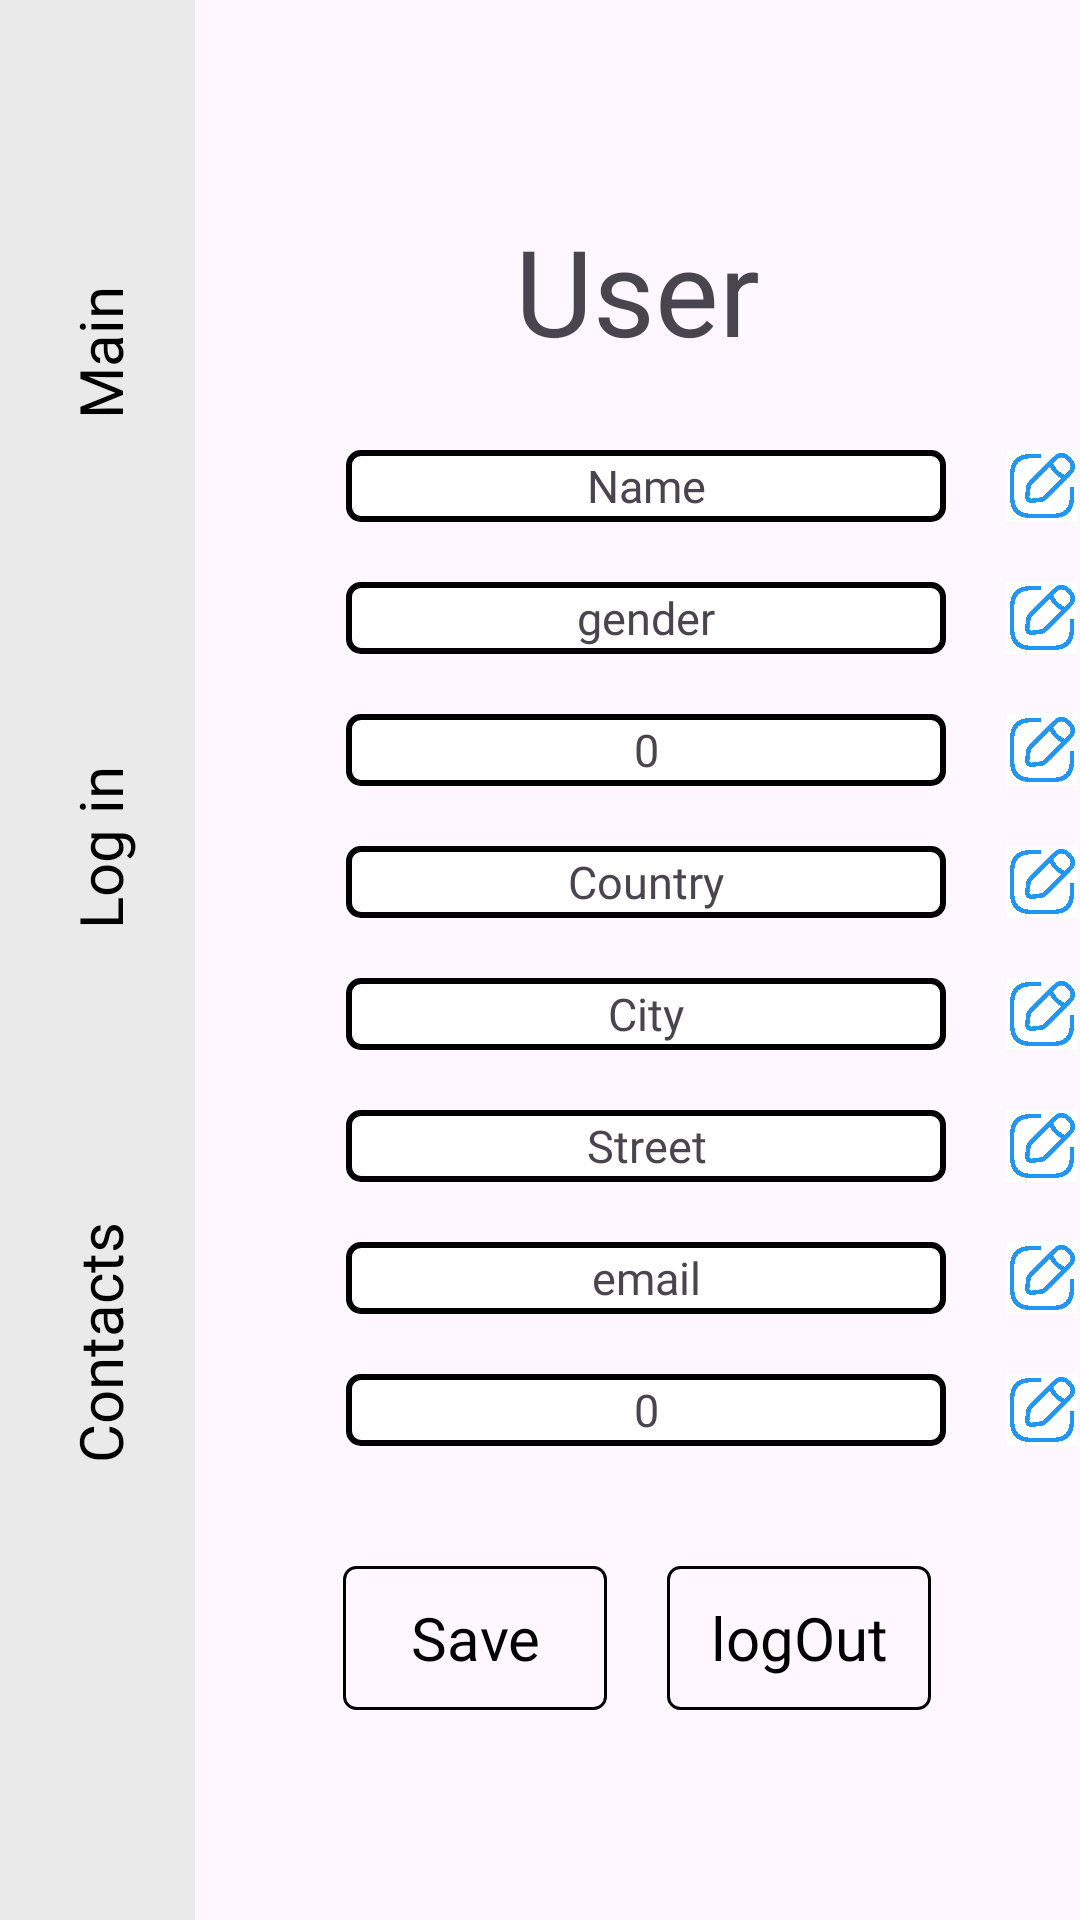

Icon click points for this 1080*1920 phone screenshot, format (x,y):
edit: (1042,485), (1042,617), (1042,749), (1042,881), (1042,1013), (1042,1145), (1042,1277), (1042,1409)
